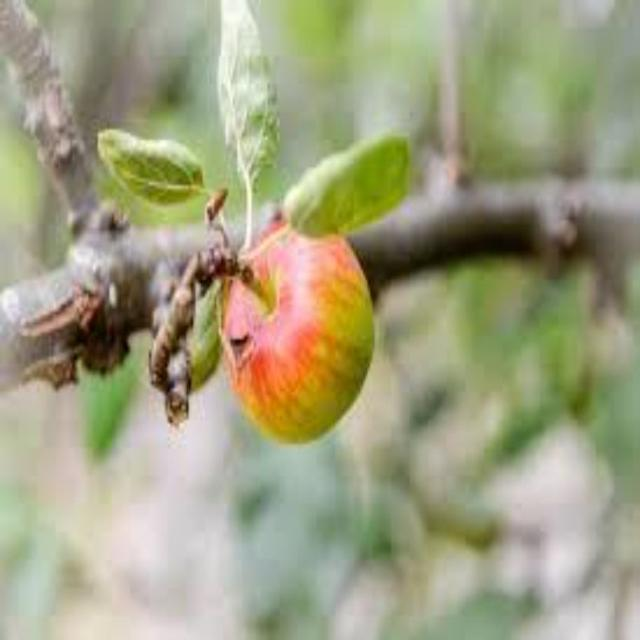Healty Apple: (208, 191, 388, 455)
